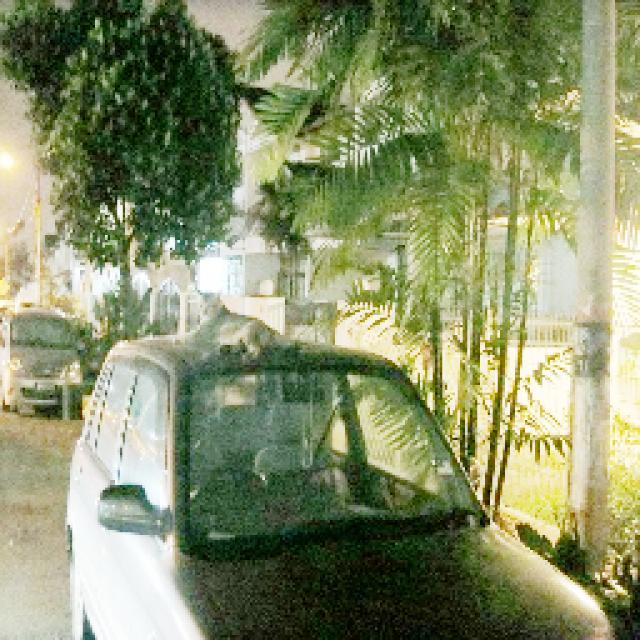cat: (169, 275, 297, 388)
